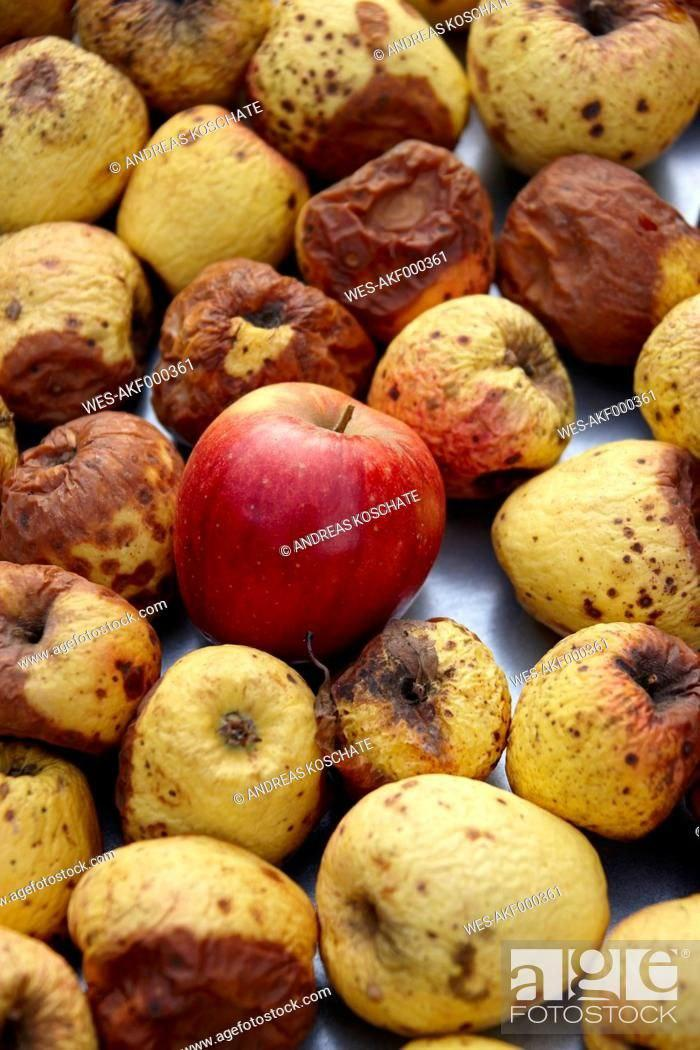Apple: (170, 380, 444, 656), (320, 771, 610, 1022)
